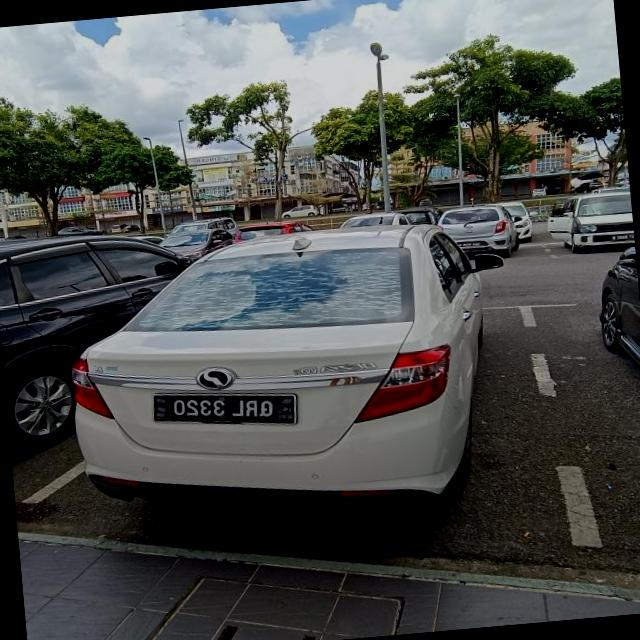PeroduaBezza: (57, 211, 524, 536)
